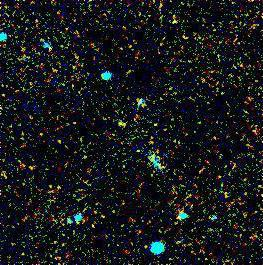star: (107, 110, 137, 140)
